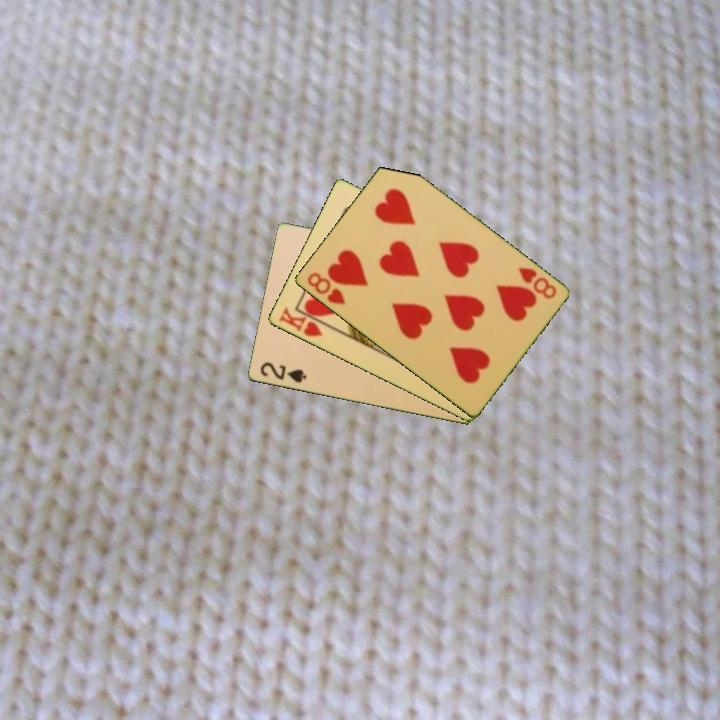2s: (256, 359, 309, 386)
8h: (303, 269, 349, 308), (514, 264, 559, 302)
Kh: (275, 303, 332, 340)
